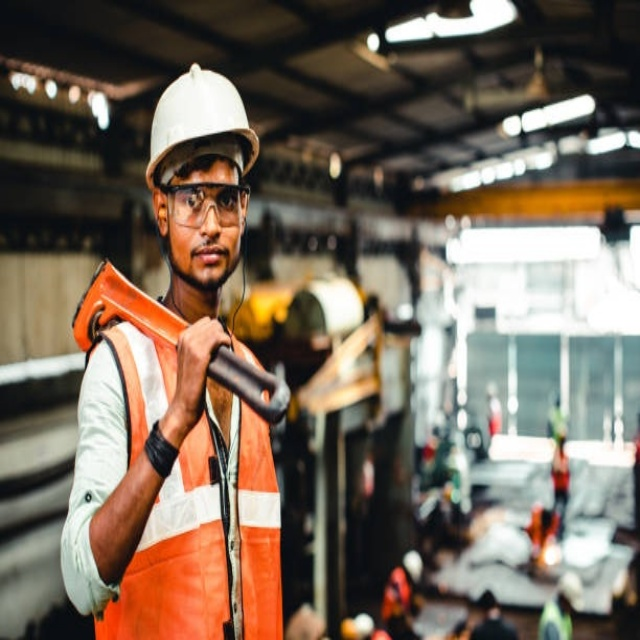Gafas: (162, 183, 250, 229)
Sin_guantes: (168, 307, 234, 417)
Sin_mascara: (187, 240, 230, 285)
